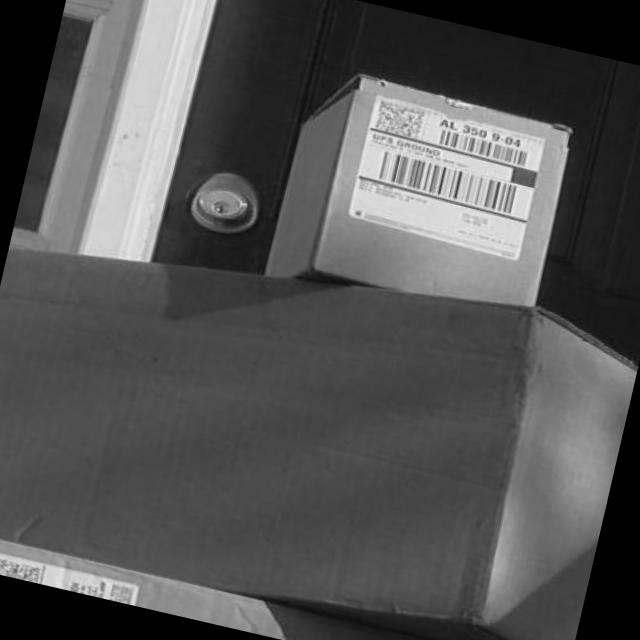box: (0, 206, 640, 640), (251, 55, 594, 348)
